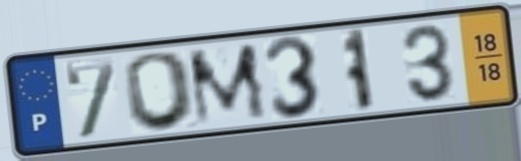1: (340, 24, 379, 116)
3: (263, 33, 324, 122), (401, 21, 455, 105)
7: (62, 56, 119, 142)
M: (183, 39, 272, 129)
O: (122, 48, 200, 134)
